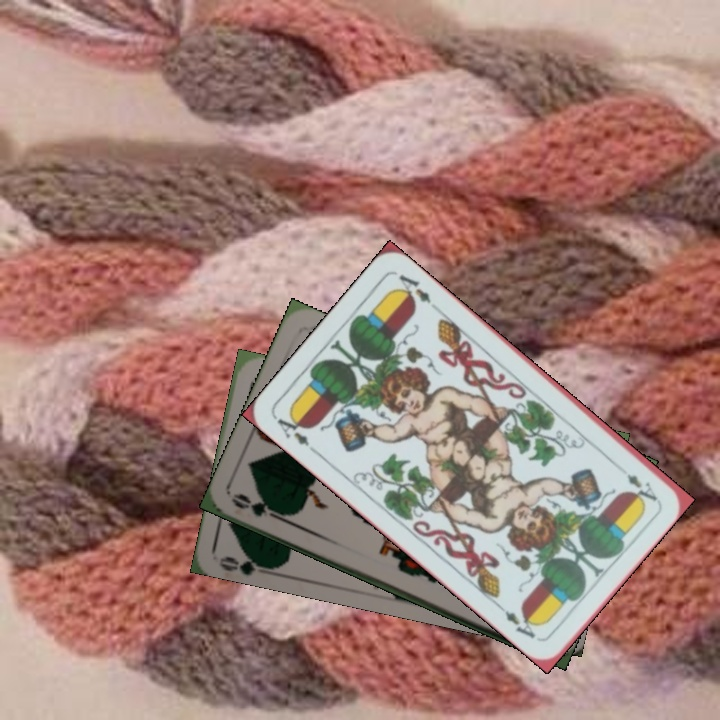EA: (272, 410, 320, 457), (622, 469, 661, 504)
GO: (229, 489, 288, 524), (217, 547, 277, 577)
